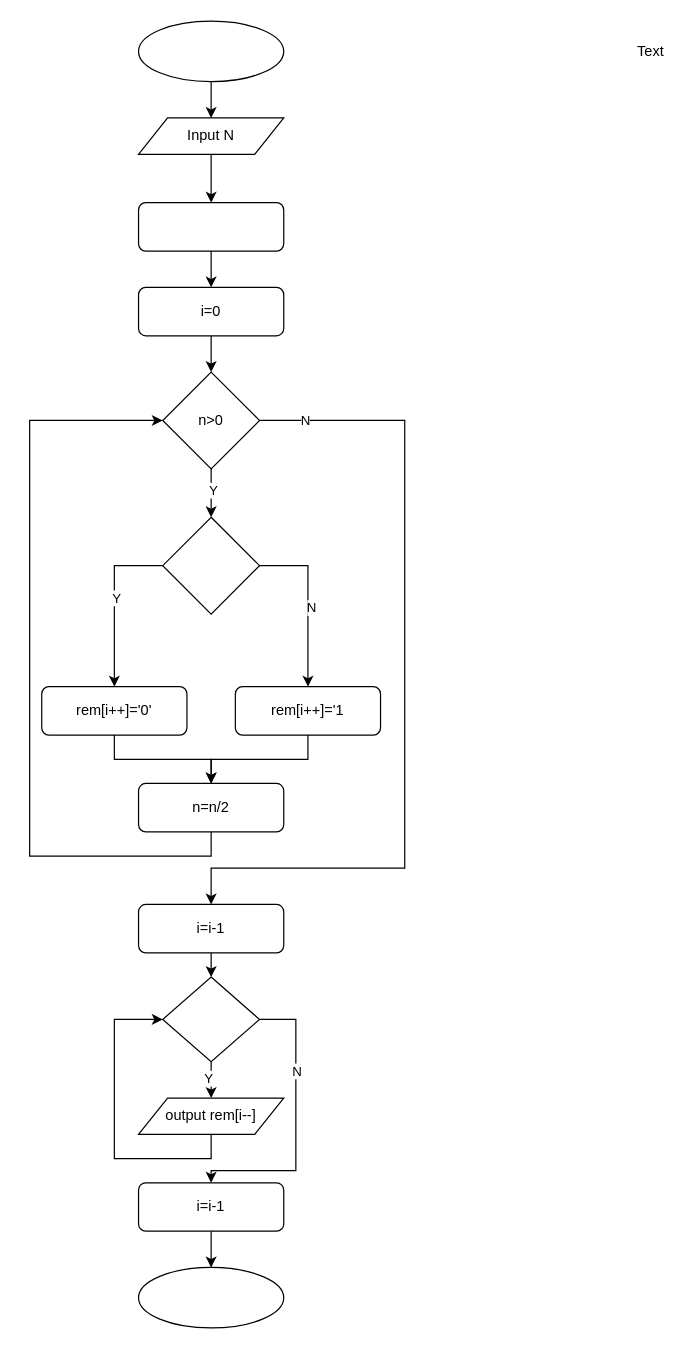
The diagram is 696 pixels wide and 1349 high, and some of its shapes have lost their labels. The shapes that lost their labels are listed below. From the top down, each one's centre as x and y in pixels, then its label:
At [210,51]: "Start".
At [210,226]: "char rem[10]".
At [211,565]: "n%2==0".
At [211,1019]: "i>=0".
At [210,1297]: "Stop".
